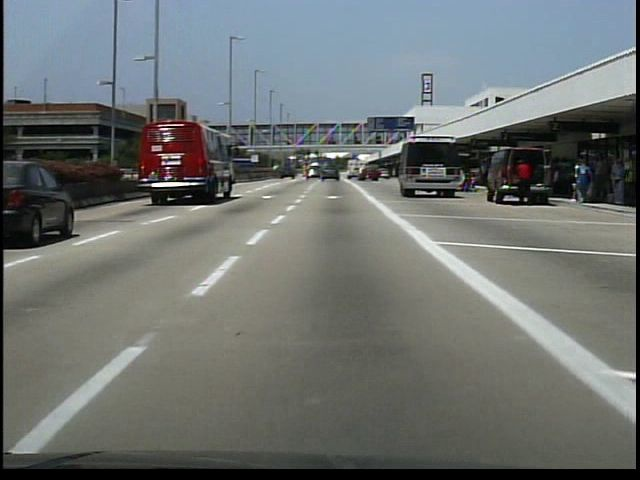person: (514, 154, 535, 209)
